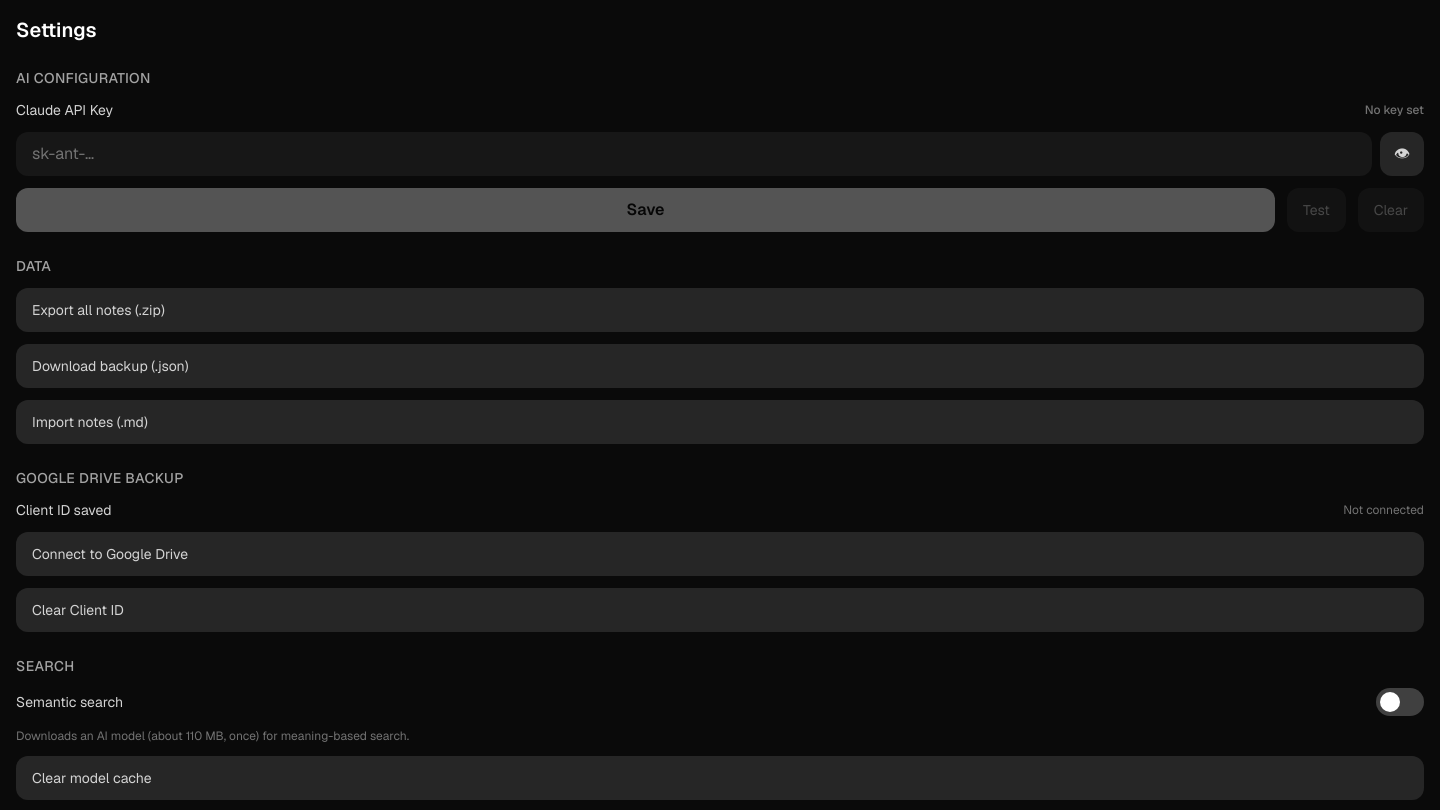
Test: SettingsView › resets status to "No key set" after clear
The image size is (1440, 810).
Type "sk-ant-valid" into the password field labelled "Claude API Key" at (694, 154), box [16,132,1372,176]
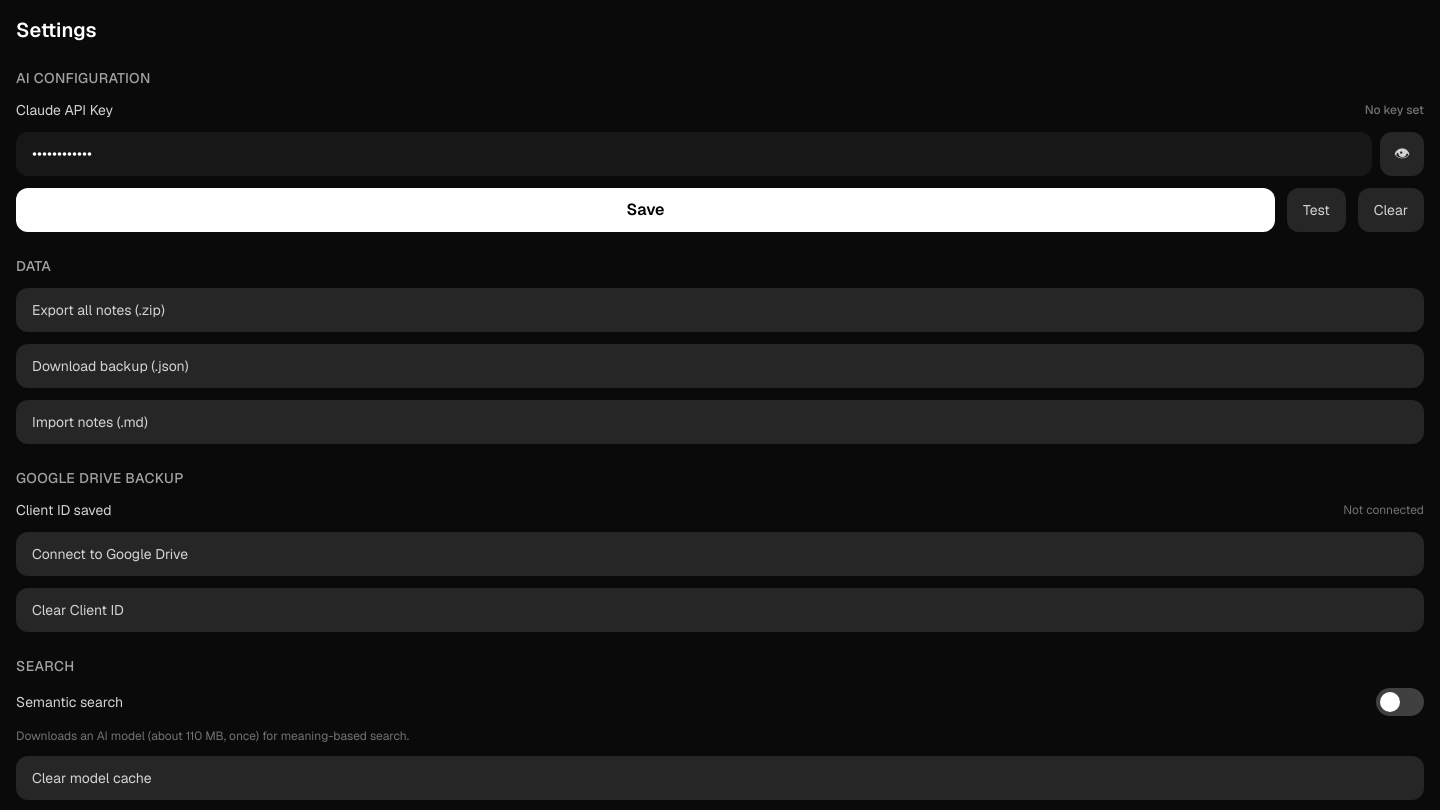
Click the button with aria-label "test api key" at (1316, 210), box [1287,188,1346,232]
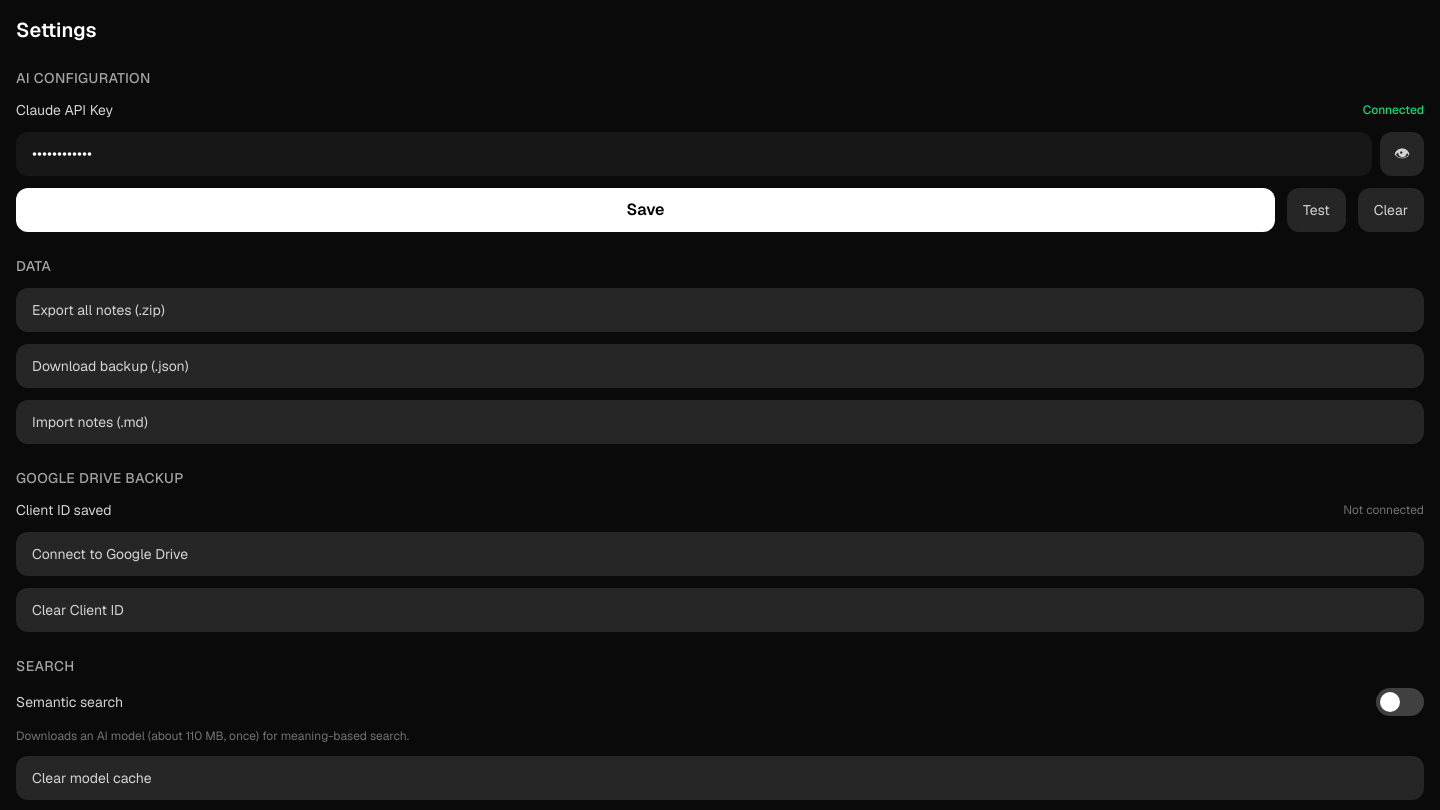
Expected: the message reads "Connected", [1363,102,1424,118]
Click the button with aria-label "clear api key" at (1391, 210), box [1358,188,1424,232]
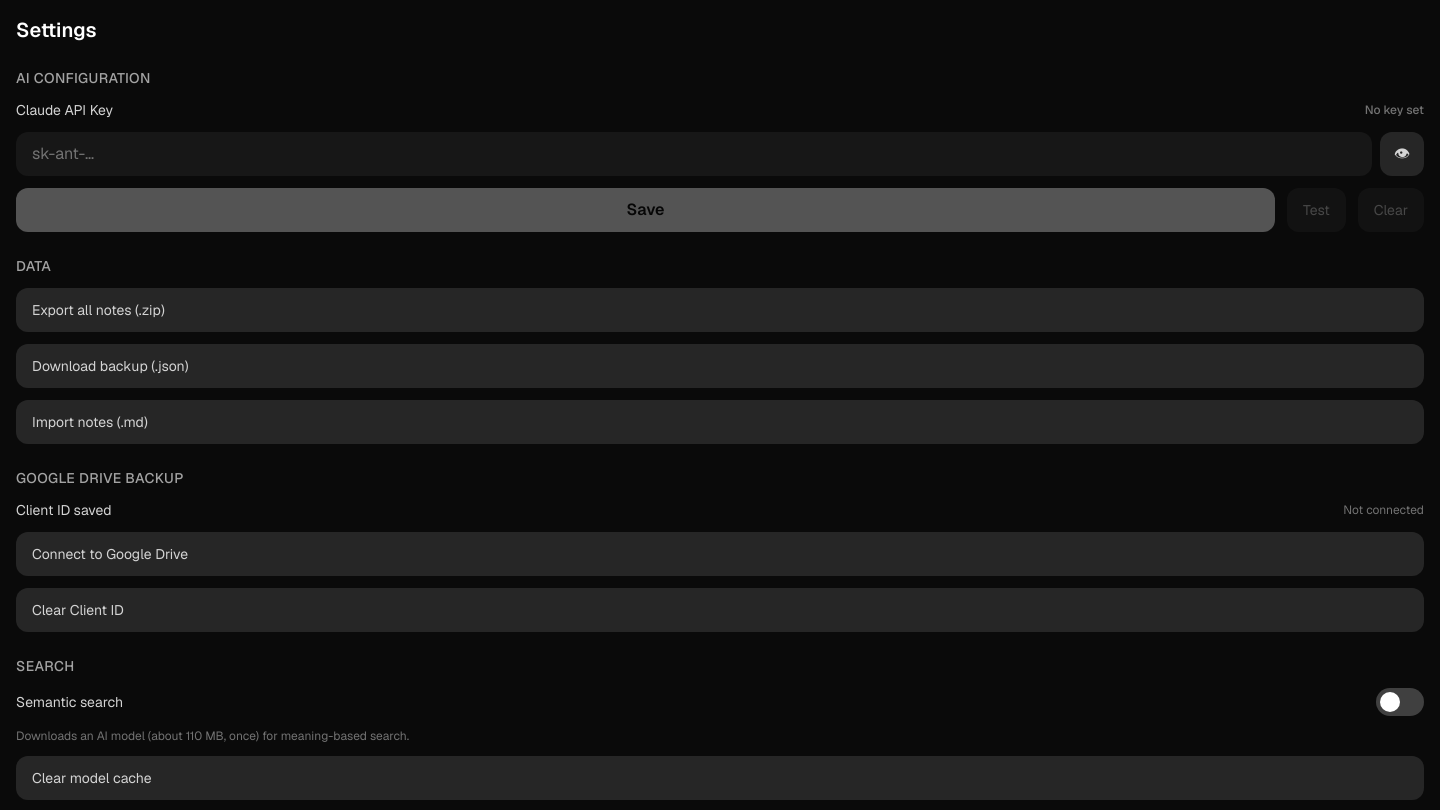
Expected: the message reads "No key set", [1365,102,1424,118]
